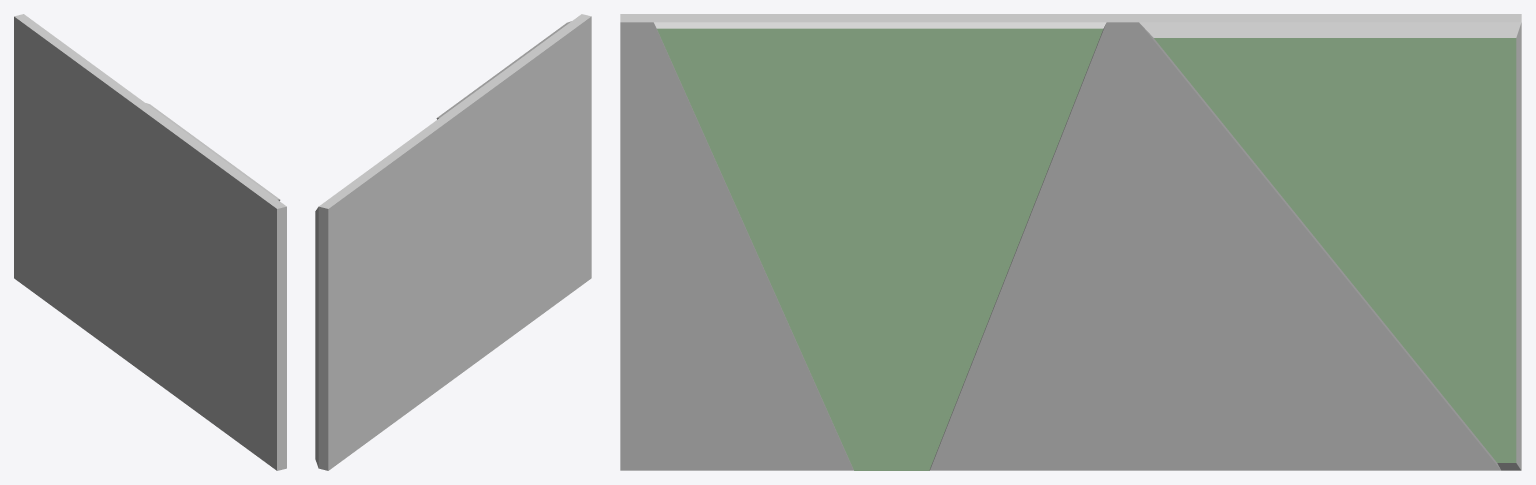
Rendered from AirportWall.fbx.
3 renders of one model, left to right at view 1: azimuth 30°, elevation 25°; view 2: azimuth 150°, elevation 25°; view 3: azimuth 270°, elevation 25°, orthographic. The views are drawn at different scales.
Parts seen in each view (by area): view 1: WallPiece1; view 2: WallPiece1; view 3: WallPiece1.
Boxes of the visible parts, x1,y1,x2,y2 form: WallPiece1: (14, 14, 286, 470); WallPiece1: (315, 14, 591, 470); WallPiece1: (620, 14, 1521, 470).
Bounding box in the file's own units: 2.31 × 39.49 × 71.9.
